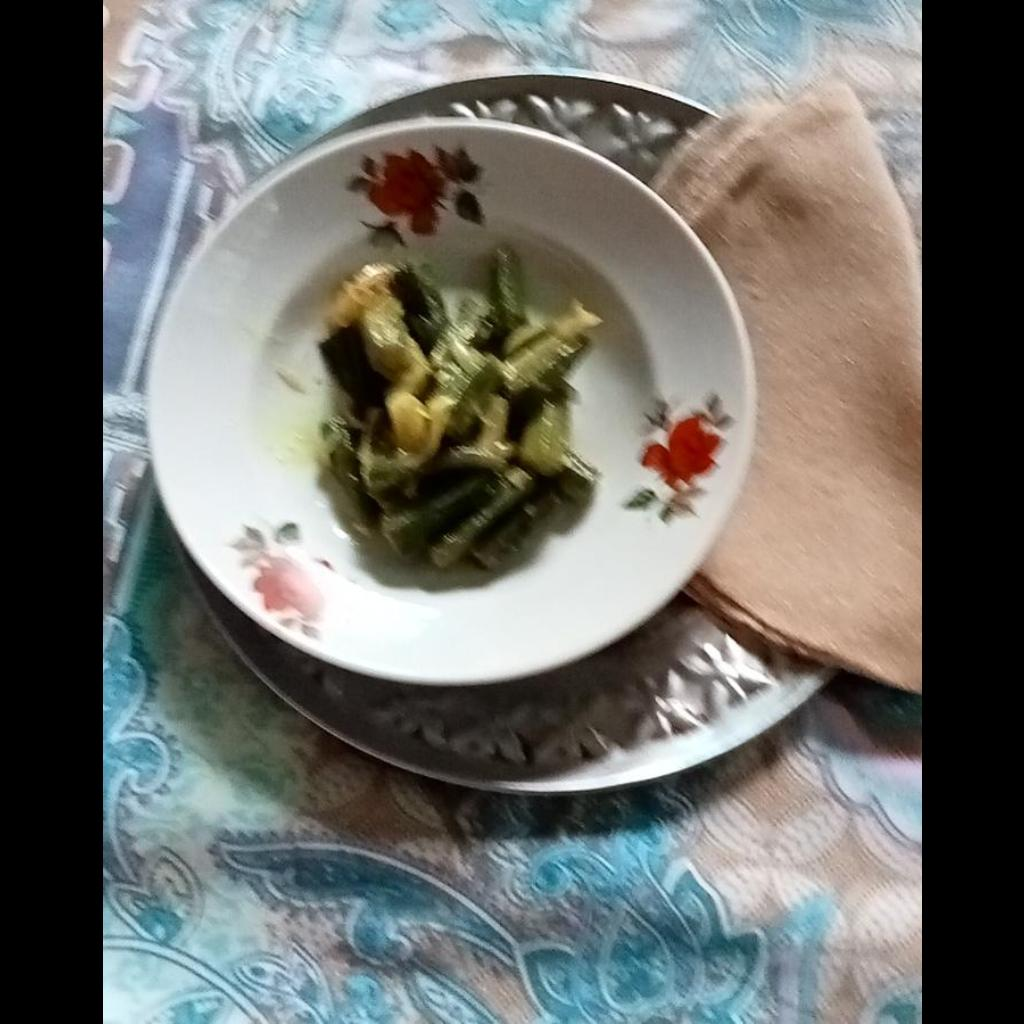ruti: (641, 83, 920, 693)
vegetable: (315, 248, 599, 575)
